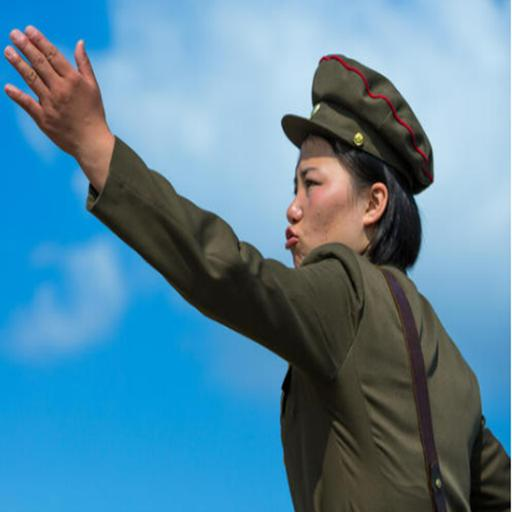north army: (33, 16, 512, 512)
